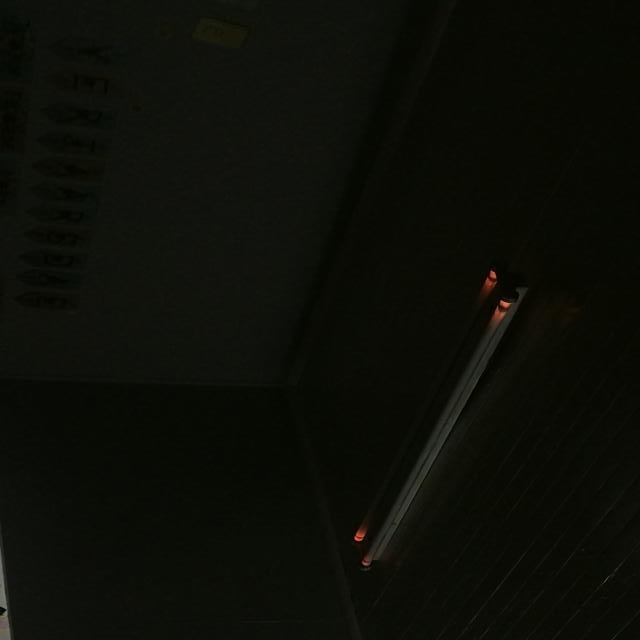fluorescent tube: (310, 268, 553, 595)
